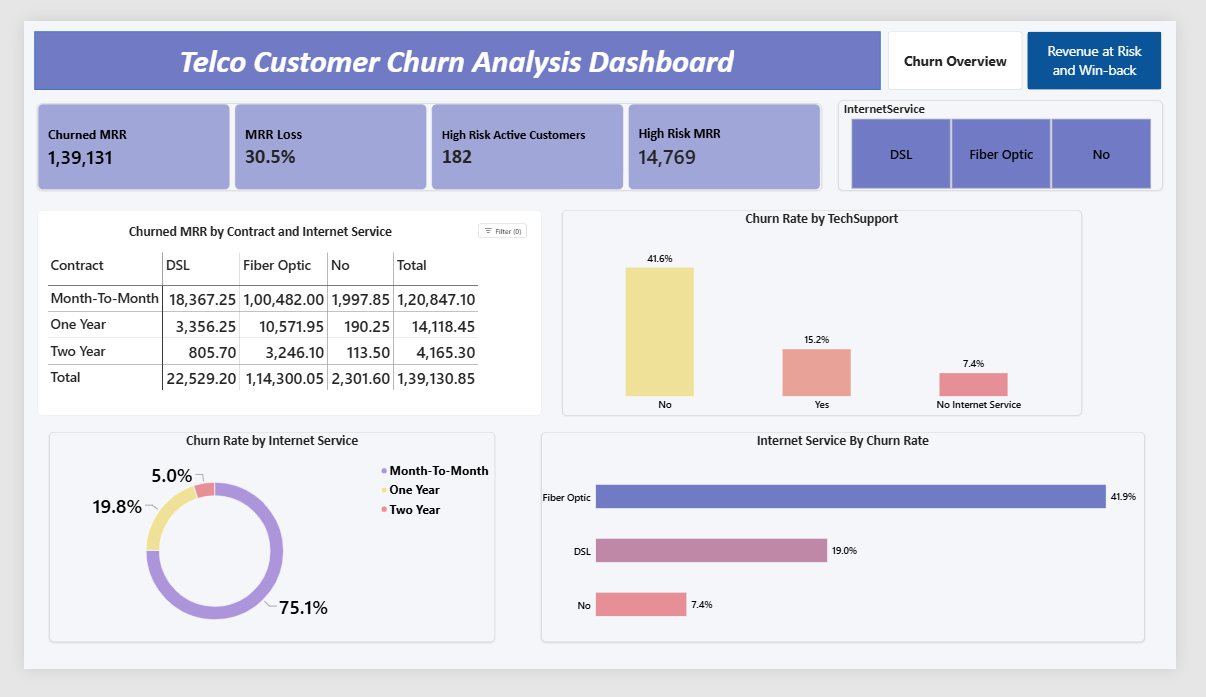

The page's visual inventory and layout, read from the dashboard file:
{"tool":"powerbi","page":{"name":"Revenue at Risk and Win-back","canvas":[1920,1080],"ordinal":1},"visuals":[{"type":"cardVisual","fields":{"Data":["Dax Table.Churned MRR","Dax Table.MRR Loss","Dax Table.High Risk Active Customers","Dax Table.High Risk MRR"]},"box":[22.5,137.5,1307.5,145],"z":0},{"type":"slicer","fields":{"Values":["Telco_Customer_Churn.InternetService"]},"box":[1357.5,132.5,540,150],"z":6000},{"type":"shape","box":[18,17.5,1410,97.5],"z":7000},{"type":"pivotTable","title":"Contract-wise Internet Service Charges","fields":{"Columns":["Telco_Customer_Churn.InternetService"],"Rows":["Telco_Customer_Churn.Contract"],"Values":["Dax Table.Churned MRR"]},"box":[22.5,315,840,342.5],"z":7001},{"type":"clusteredColumnChart","fields":{"Category":["Telco_Customer_Churn.TechSupport"],"Y":["Dax Table.Churn Rate"]},"box":[897.5,315,865,342.5],"z":7002},{"type":"donutChart","title":"Churn Rate by Internet Service","fields":{"Category":["Telco_Customer_Churn.Contract"],"Y":["Dax Table.Churn Rate"]},"box":[42.5,685,742.5,350],"z":7003},{"type":"clusteredBarChart","title":"Internet Service By Churn Rate","fields":{"Category":["Telco_Customer_Churn.InternetService"],"Y":["Dax Table.Churn Rate"]},"box":[862.5,685,1005,350],"z":7004}]}

Visuals, with their boxes in screenshot pixels (x1, y1, x2, y2), scaled from the page's 1920x1080 canvas onto the 1206x697 screenshot:
cardVisual - Dax Table.Churned MRR x Dax Table.MRR Loss: region(14, 89, 835, 182)
slicer - Telco_Customer_Churn.InternetService: region(853, 86, 1192, 182)
shape: region(11, 11, 897, 74)
"Contract-wise Internet Service Charges" pivotTable: region(14, 203, 542, 424)
clusteredColumnChart - Telco_Customer_Churn.TechSupport x Dax Table.Churn Rate: region(564, 203, 1107, 424)
"Churn Rate by Internet Service" donutChart: region(27, 442, 493, 668)
"Internet Service By Churn Rate" clusteredBarChart: region(542, 442, 1173, 668)
